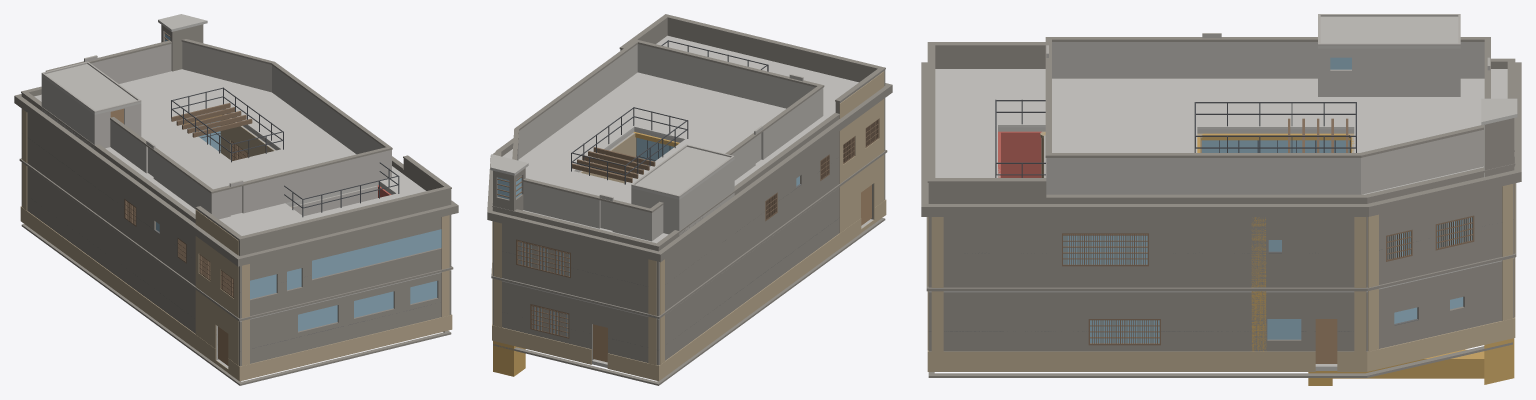
Rendered from taif_house_V7.0.glb.
The picture shows the model from 3 angles, left to right: view 1: azimuth 30°, elevation 25°; view 2: azimuth 150°, elevation 25°; view 3: azimuth 270°, elevation 25°; orthographic projection. The views are drawn at different scales.
Visible parts, largest first — view 1: roof_finish_floor, roof_attic_wall, gf_outer, ff_outer, chr_base_stone_plinth, roof_cornice, chr_base_stone_feature_wall_00, roof_parapet_s, roof_attic_coping, ff_outer_sill62, roof_stair_wall, chr_base_stone_quoins (+24 smaller); view 2: roof_finish_floor, roof_attic_wall, ff_outer, gf_outer, chr_base_stone_plinth, roof_cornice, chr_base_stone_feature_wall_00, roof_parapet_s, roof_stair_wall, roof_attic_coping, chr_base_stone_quoins, roof_stair_slab (+22 smaller); view 3: roof_finish_floor, roof_attic_wall, ff_outer, gf_outer, chr_base_stone_plinth, roof_cornice, chr_base_stone_quoins, roof_stair_wall, roof_parapet_s, roof_attic_coping, roof_stair_slab, roof_coping_n (+38 smaller).
Part boxes in pixels (box(x1,y1,x2,y2)): roof_finish_floor: box(34, 69, 426, 235); roof_attic_wall: box(91, 42, 391, 219); gf_outer: box(21, 162, 451, 366); ff_outer: box(21, 109, 451, 318); chr_base_stone_plinth: box(20, 206, 452, 381); roof_cornice: box(14, 94, 458, 266); chr_base_stone_feature_wall_00: box(195, 209, 238, 372); roof_parapet_s: box(196, 158, 451, 255); roof_attic_coping: box(45, 39, 392, 193); ff_outer_sill62: box(312, 247, 441, 300); roof_stair_wall: box(41, 76, 141, 149); chr_base_stone_quoins: box(22, 109, 449, 365); roof_finish_floor: box(502, 35, 858, 243); roof_attic_wall: box(517, 44, 823, 241); ff_outer: box(493, 98, 885, 315); gf_outer: box(493, 154, 885, 365); chr_base_stone_plinth: box(492, 199, 886, 381); roof_cornice: box(487, 83, 892, 262); chr_base_stone_feature_wall_00: box(839, 71, 884, 232); roof_parapet_s: box(620, 19, 885, 113); roof_stair_wall: box(631, 159, 734, 235); roof_attic_coping: box(512, 39, 824, 212); chr_base_stone_quoins: box(492, 99, 884, 365); roof_stair_slab: box(631, 147, 734, 199); roof_finish_floor: box(935, 69, 1507, 194); roof_attic_wall: box(1046, 42, 1484, 194); ff_outer: box(928, 183, 1514, 287); gf_outer: box(928, 258, 1514, 351); chr_base_stone_plinth: box(927, 317, 1515, 371); roof_cornice: box(921, 62, 1521, 216); chr_base_stone_quoins: box(927, 183, 1515, 351); roof_stair_wall: box(1318, 48, 1460, 96); roof_parapet_s: box(928, 47, 1046, 203); roof_attic_coping: box(1045, 37, 1490, 157); roof_stair_slab: box(1318, 16, 1460, 48); roof_coping_n: box(1046, 58, 1515, 199).
Bounding box in the file's own units: 14.16 × 12.19 × 24.85.
